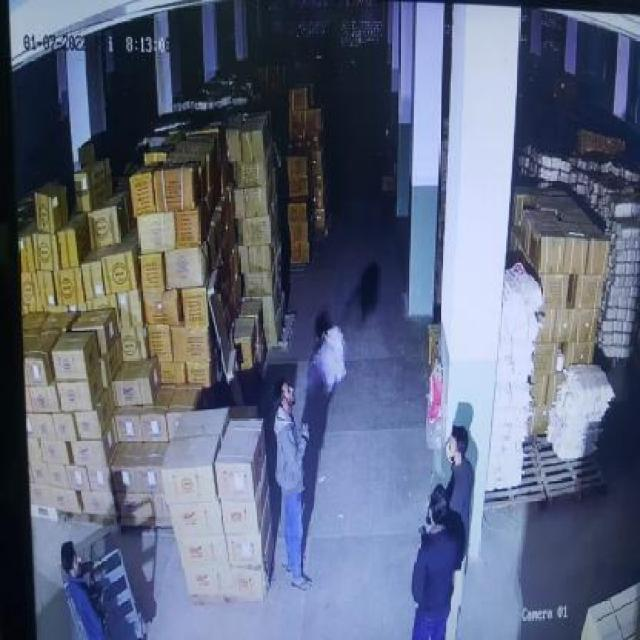fire: (306, 324, 348, 398)
